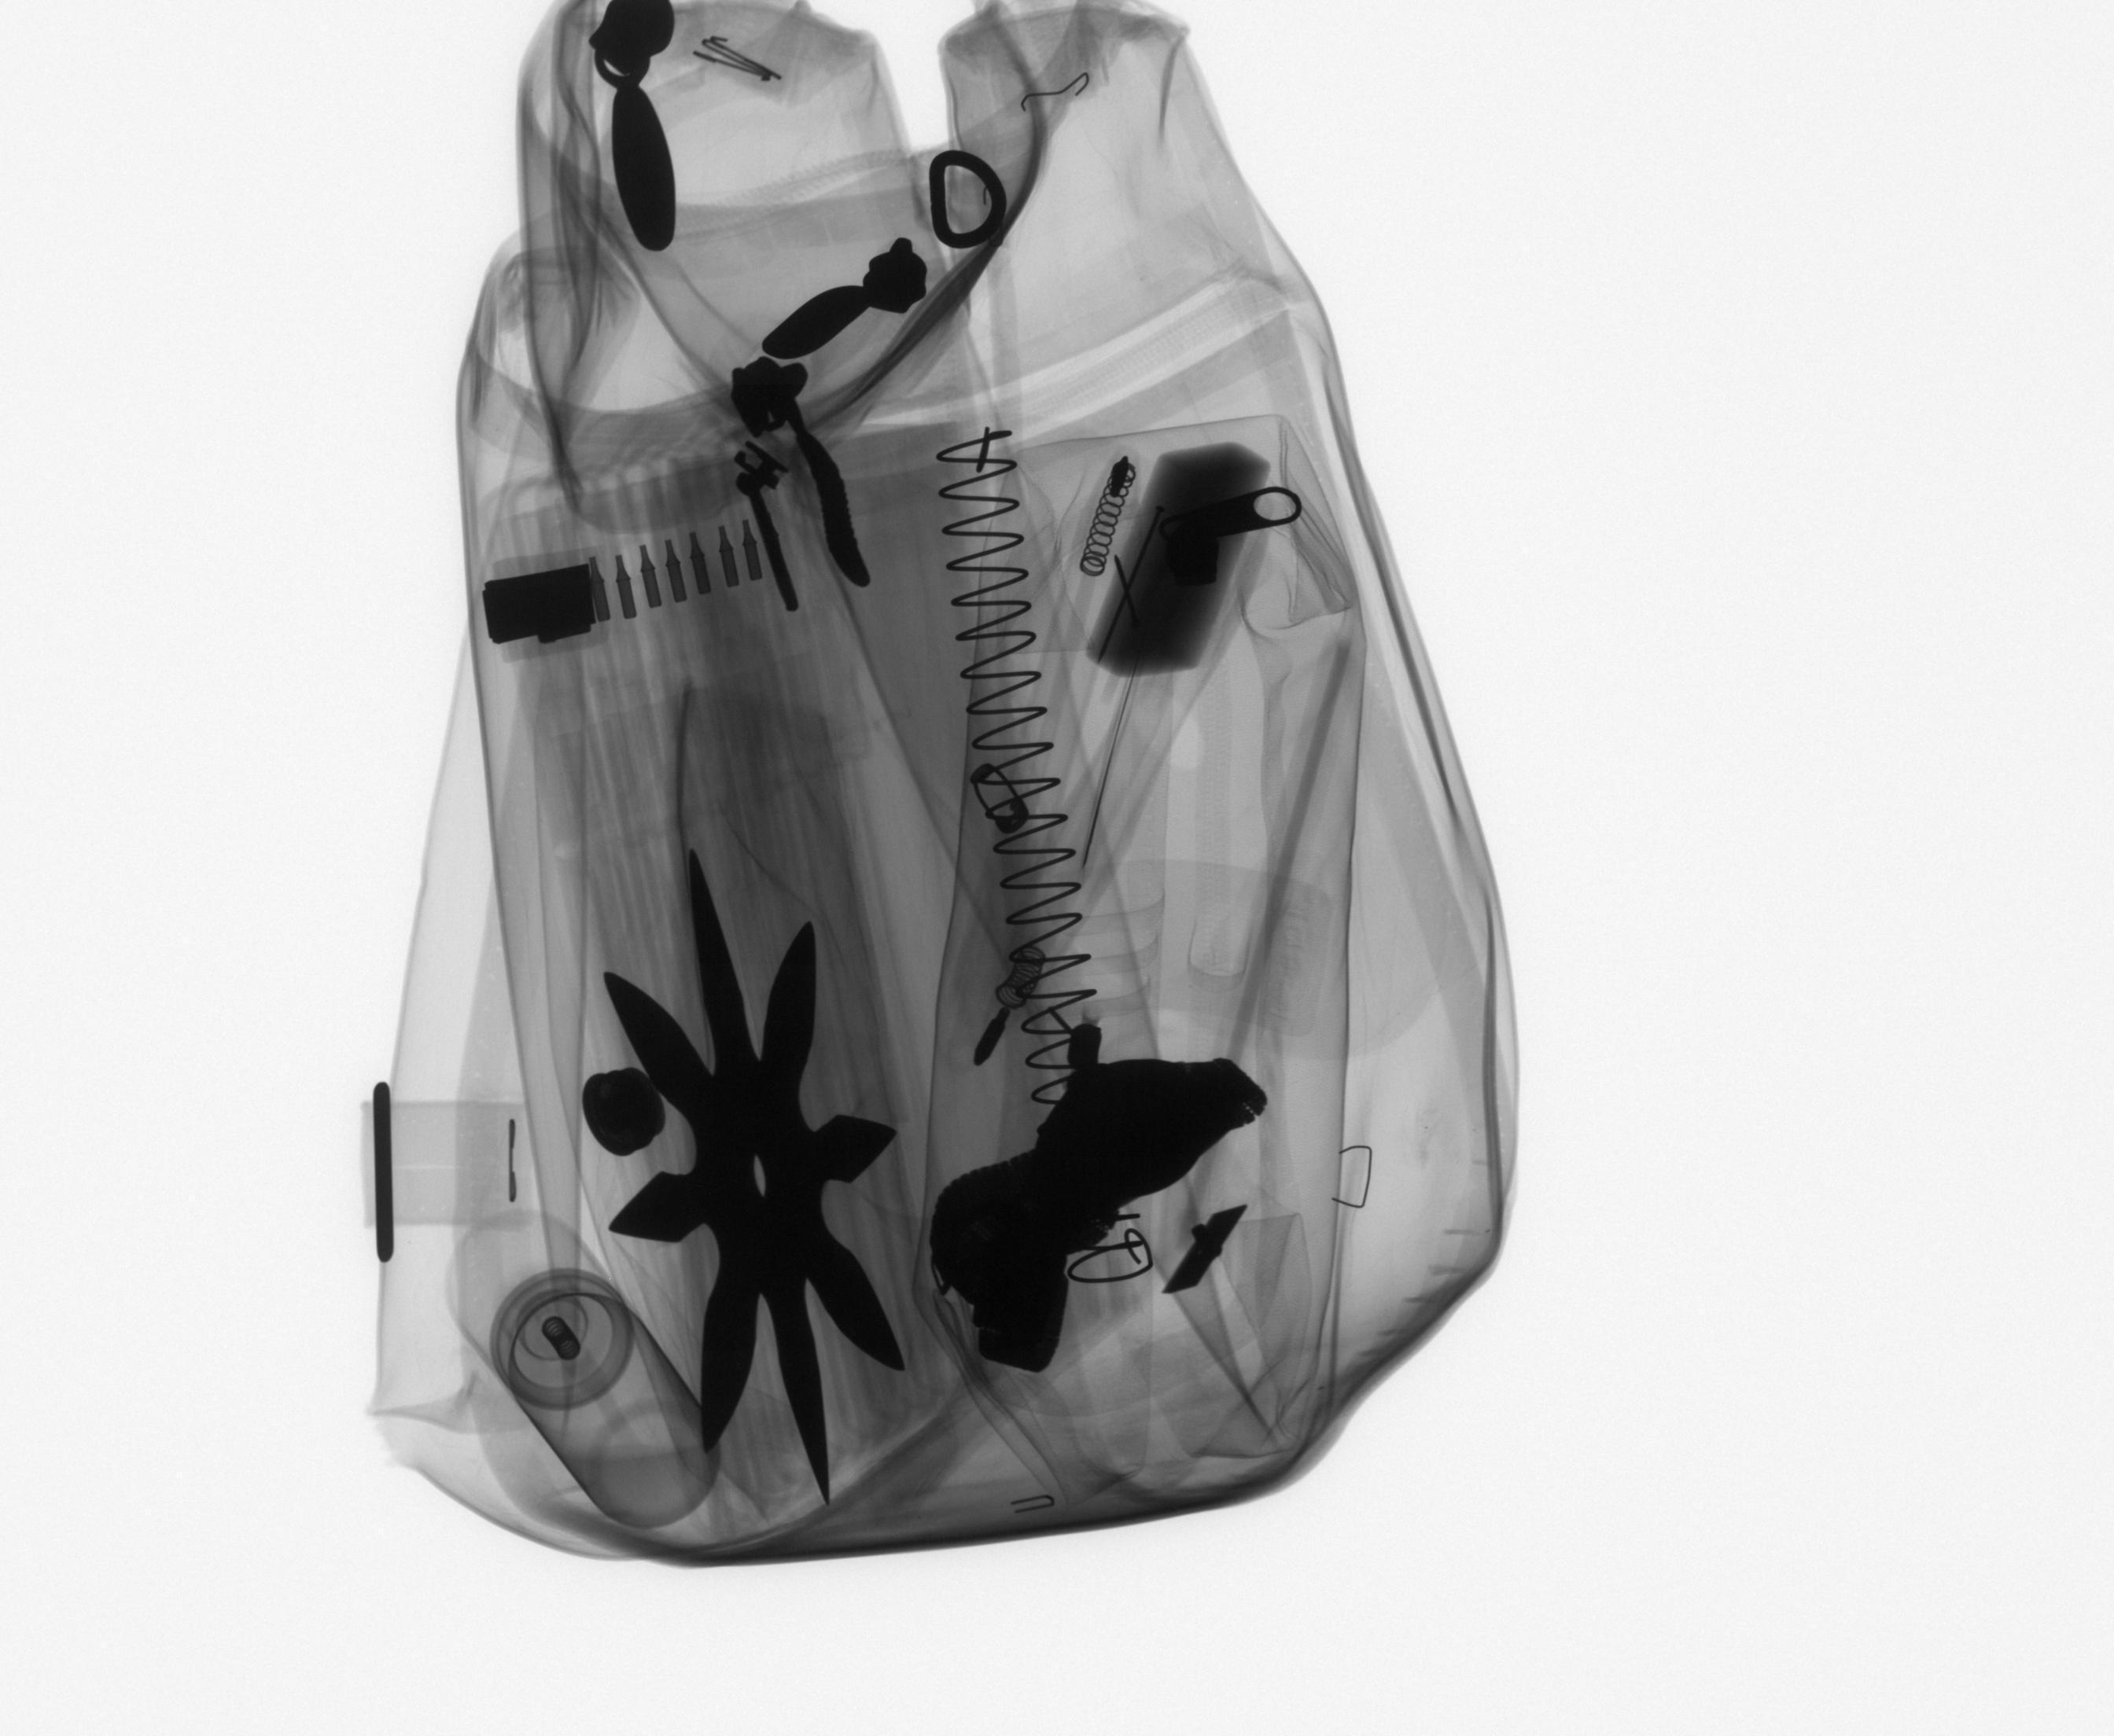Shuriken: (590, 839, 918, 1527)
